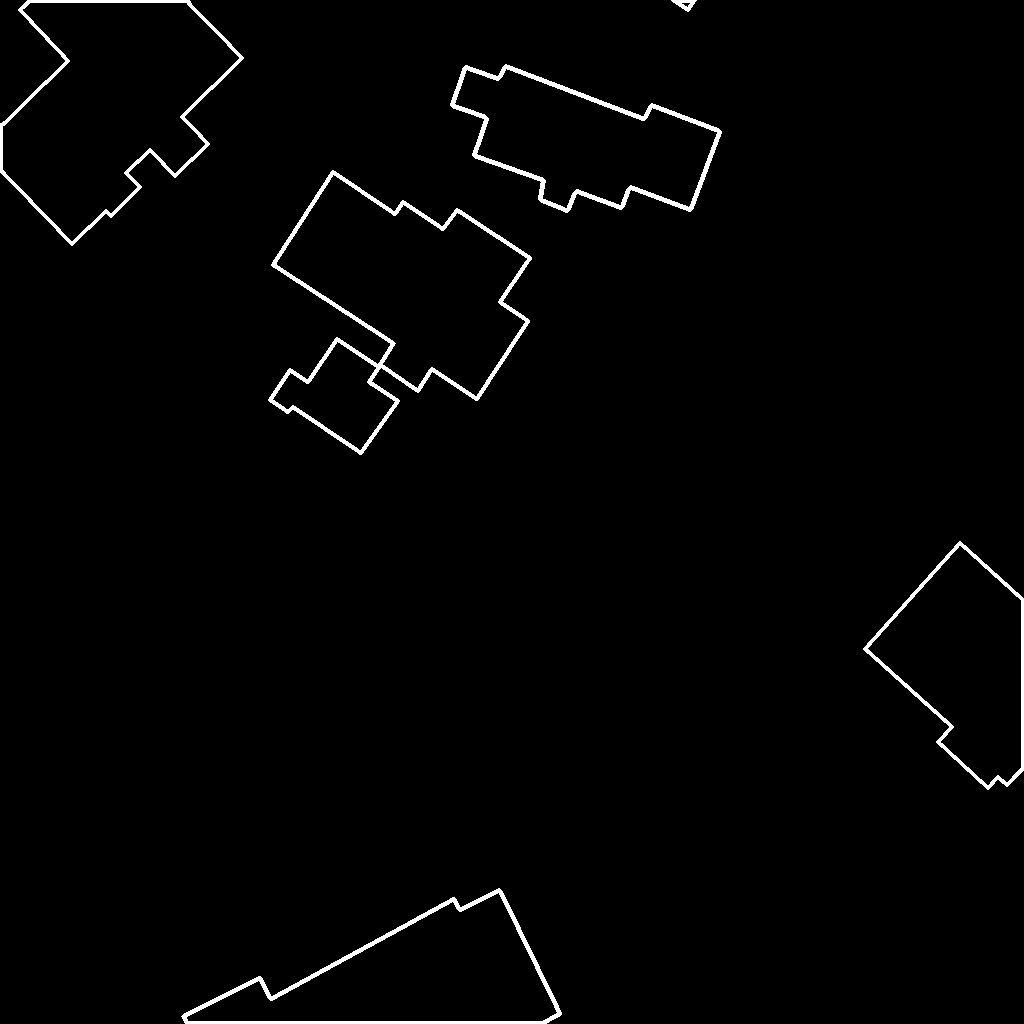building: (0, 0, 243, 245), (273, 172, 531, 400), (183, 890, 561, 1024), (452, 66, 721, 212), (865, 543, 1024, 789), (270, 339, 399, 454), (673, 0, 696, 11)
